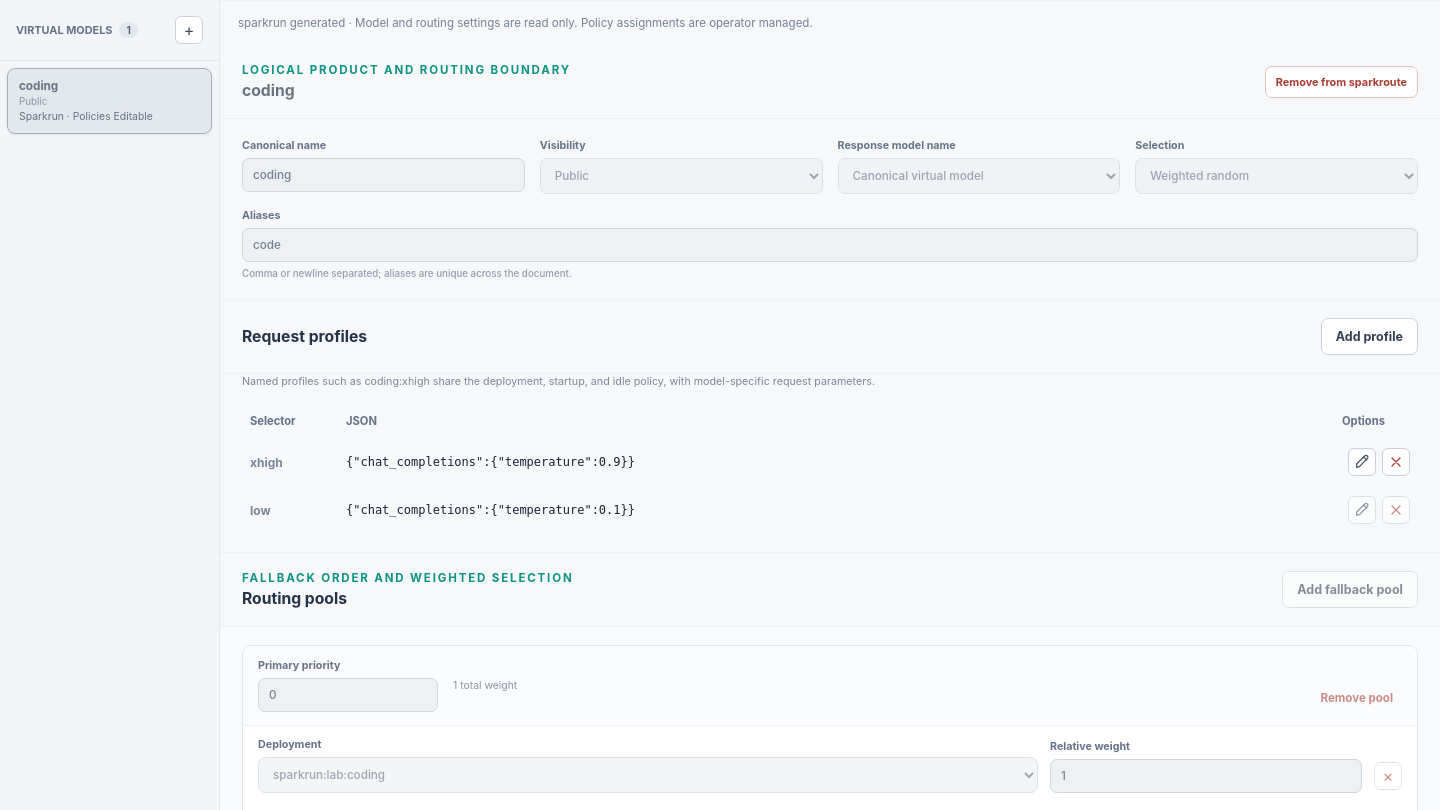
Test: names operator profile blockers while generated profile variants are removed together
The image size is (1440, 810).
Click the button "Remove from sparkroute" at [1341, 82], box [1265,66,1418,98]
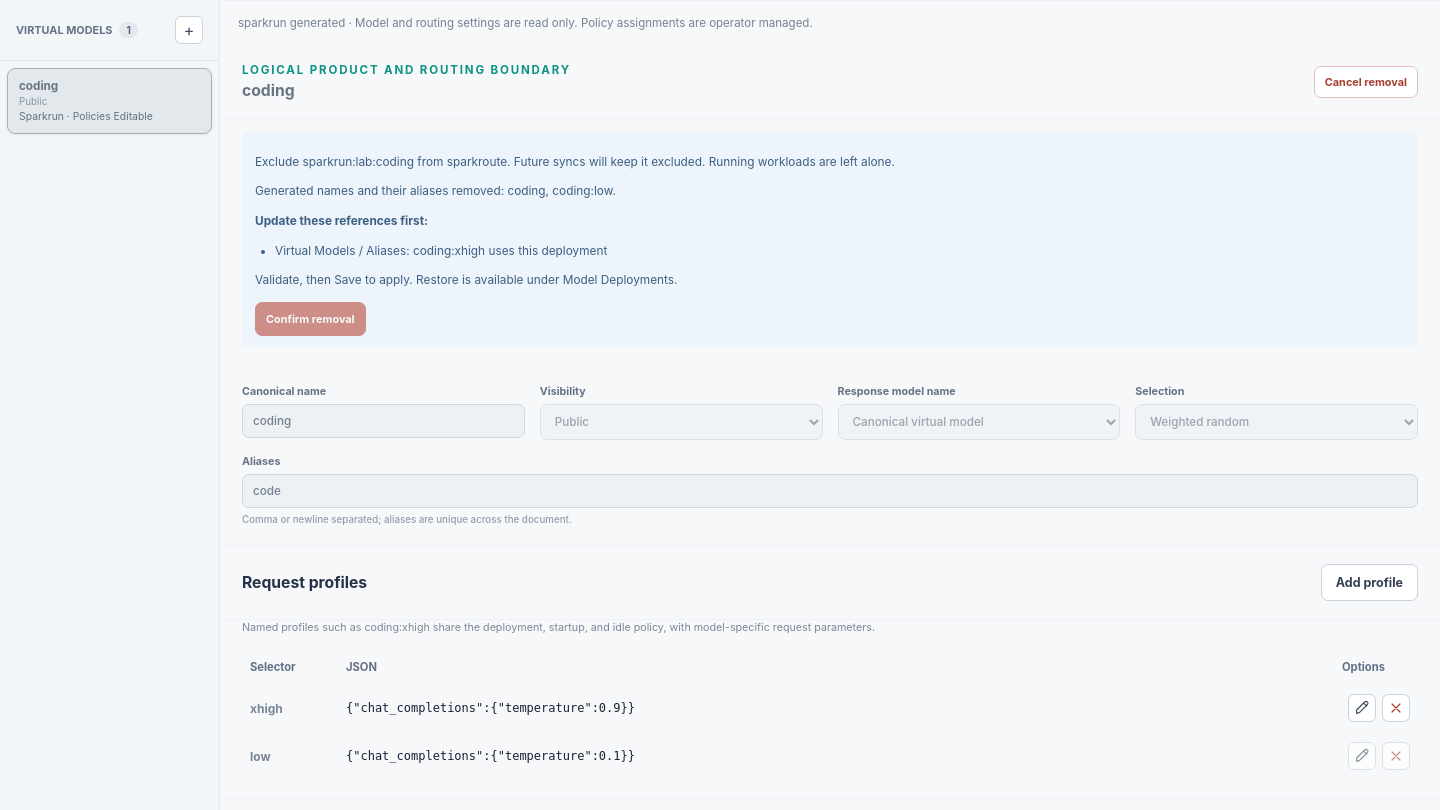
expect the list item "Virtual Models / Aliases: coding:xhigh uses this deployment" is shown: met, box [275,244,607,258]
expect the button "Confirm removal" is disabled: met, box [255,302,366,336]
